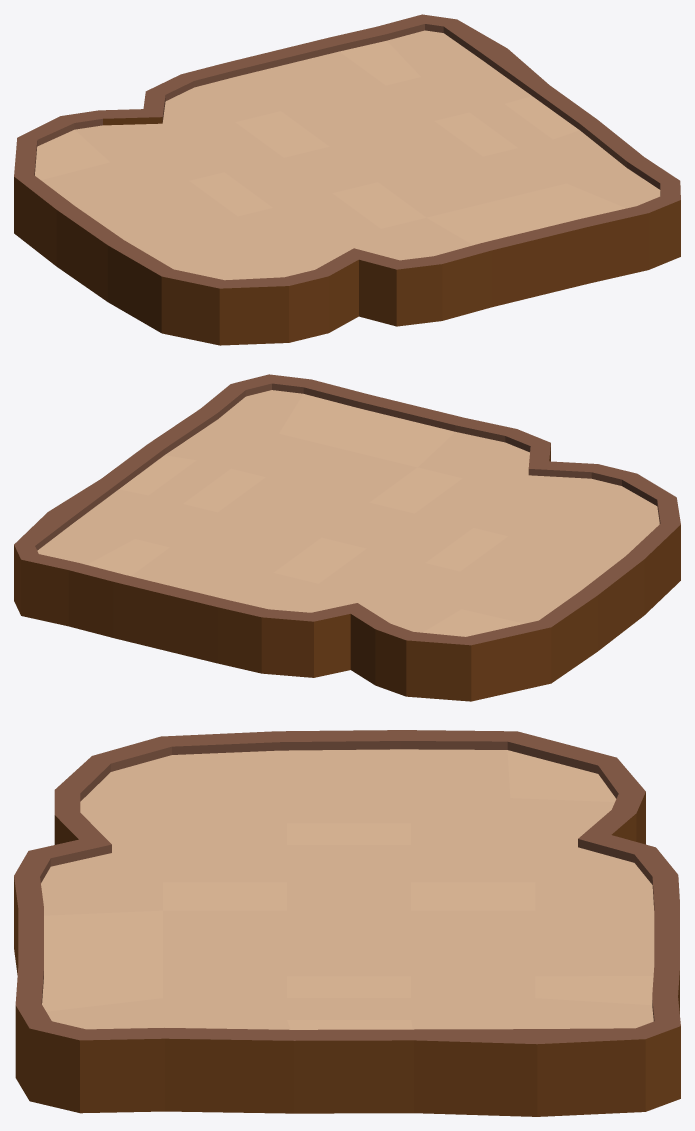
Rendered from bread.fbx.
The picture shows the model from 3 angles, top to bottom: view 1: azimuth 30°, elevation 25°; view 2: azimuth 150°, elevation 25°; view 3: azimuth 270°, elevation 25°; orthographic projection. The views are drawn at different scales.
Visible parts, largest first — view 1: Cube; view 2: Cube; view 3: Cube.
Boxes of the visible parts, x1,y1,x2,y2 form: Cube: [14, 14, 680, 345]; Cube: [14, 374, 680, 701]; Cube: [14, 730, 680, 1116].
Bounding box in the file's own units: 151 × 16.28 × 135.
